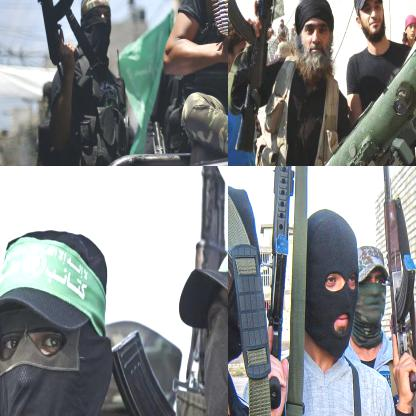rifle: (111, 166, 226, 415), (228, 0, 282, 152), (266, 166, 299, 409), (380, 166, 415, 393), (19, 0, 84, 63)
